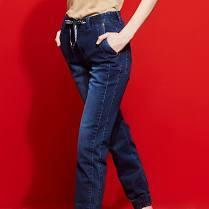pants: (60, 11, 153, 208)
